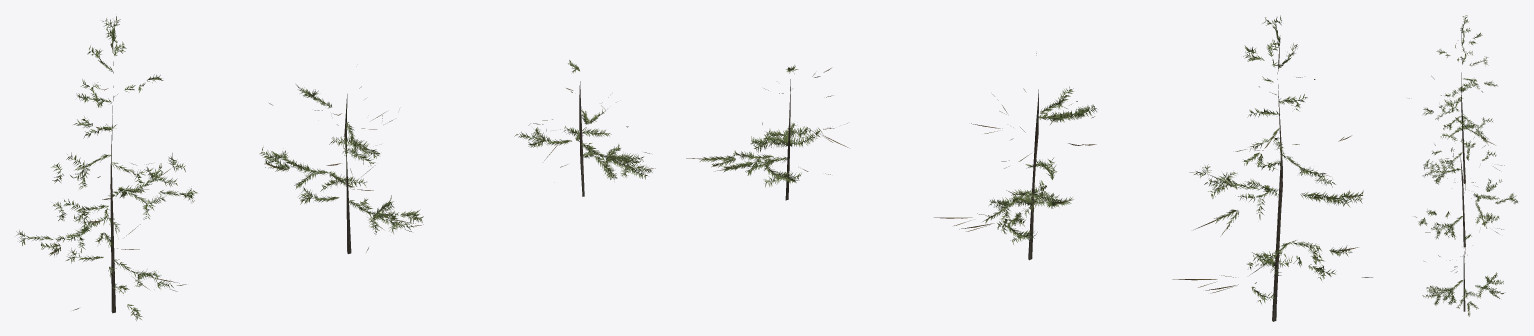
Rendered from fir_sapling.glb.
3 views of the same model, side by side, from view 1: azimuth 30°, elevation 25°; view 2: azimuth 150°, elevation 25°; view 3: azimuth 270°, elevation 25° (orthographic). The views are drawn at different scales.
Visible parts, largest first — view 1: fir_sapling_a, fir_sapling_b, fir_sapling_c; view 2: fir_sapling_a, fir_sapling_b, fir_sapling_c; view 3: fir_sapling_a, fir_sapling_b, fir_sapling_c.
Part boxes in pixels (x1,y1,x2,y2): fir_sapling_a: (16,16,197,320); fir_sapling_b: (259,84,423,253); fir_sapling_c: (514,60,655,196); fir_sapling_a: (1172,15,1372,321); fir_sapling_b: (934,53,1096,260); fir_sapling_c: (686,65,848,200); fir_sapling_a: (1409,15,1504,192); fir_sapling_b: (1414,137,1517,256); fir_sapling_c: (1422,234,1505,316).
Bounding box in the file's own units: 2.63 × 1.21 × 0.7499.
2 materials, 2 textured.
